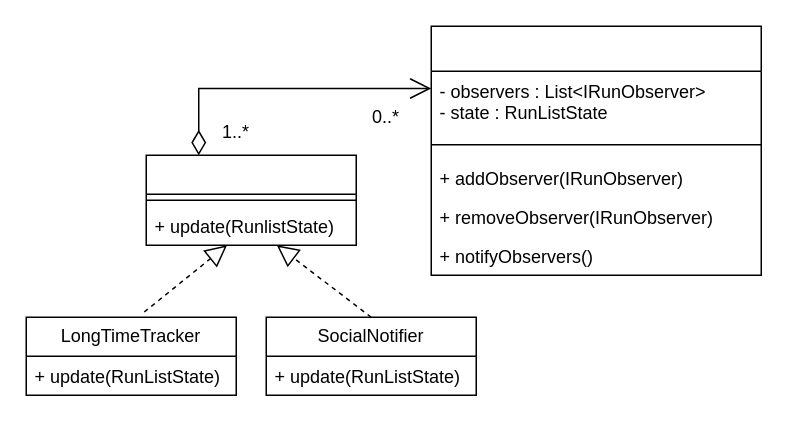
Some shapes in this 788 by 426 pixel diagram are drawn without their labels. Each missing label, with the box of its shape:
IRunObserver: (145, 154, 356, 245)
RunTracker: (430, 25, 761, 275)
